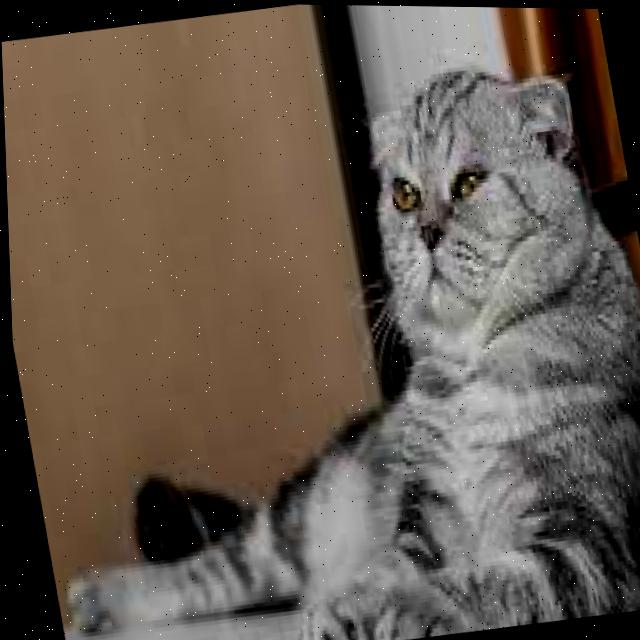Scottish Fold: (1, 28, 640, 640)
